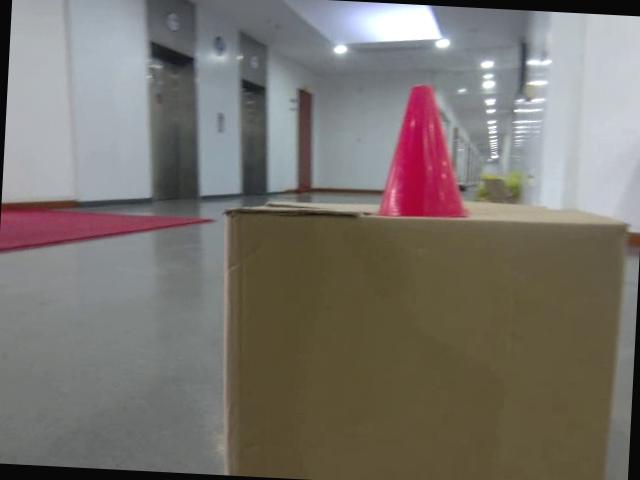red_barrel: (374, 80, 480, 222)
